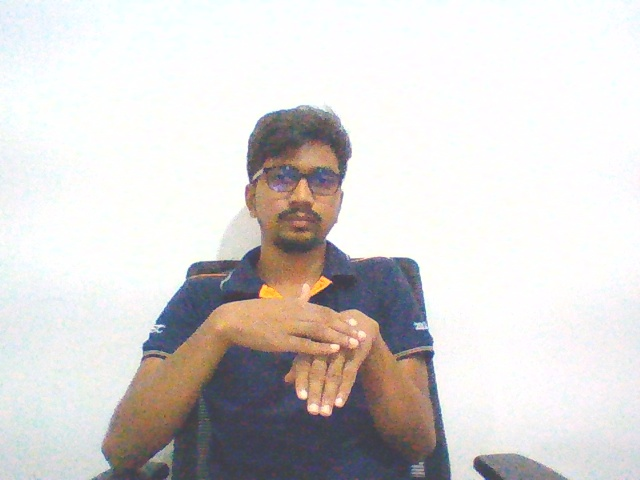pineapple: (202, 277, 382, 424)
